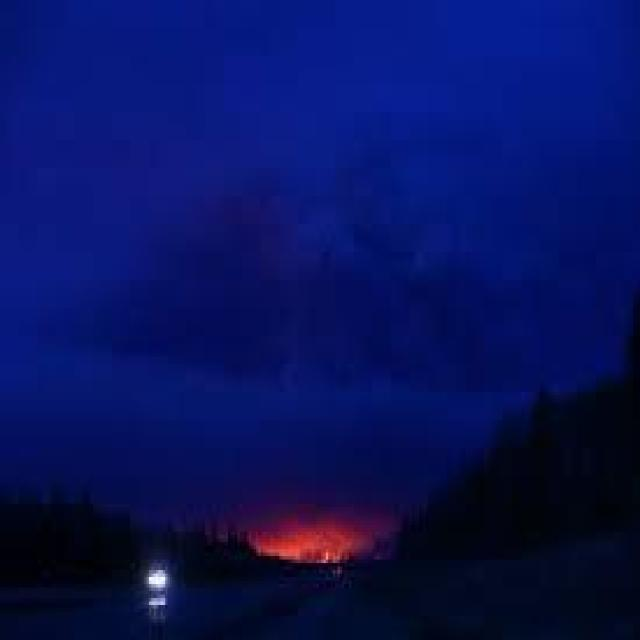fire: (274, 509, 374, 571)
smoke: (163, 237, 501, 398)
